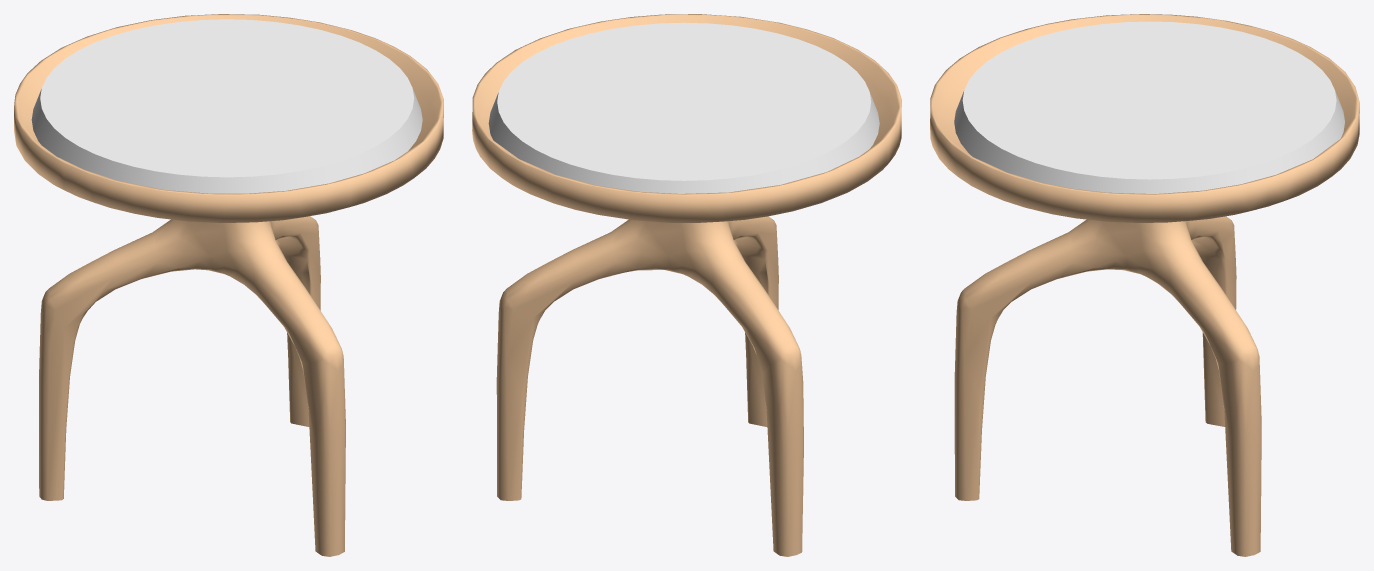
File: Stool-Gold-White-1.fbx
3 renders of one model, left to right at view 1: azimuth 30°, elevation 25°; view 2: azimuth 150°, elevation 25°; view 3: azimuth 270°, elevation 25°, orthographic.
Visible parts, largest first — view 1: Object001; view 2: Object001; view 3: Object001.
Boxes of the visible parts, x1,y1,x2,y2 form: Object001: (14,14,443,556); Object001: (472,14,901,556); Object001: (930,14,1359,556).
Bounding box in the file's own units: 31.77 × 31.72 × 31.77.
